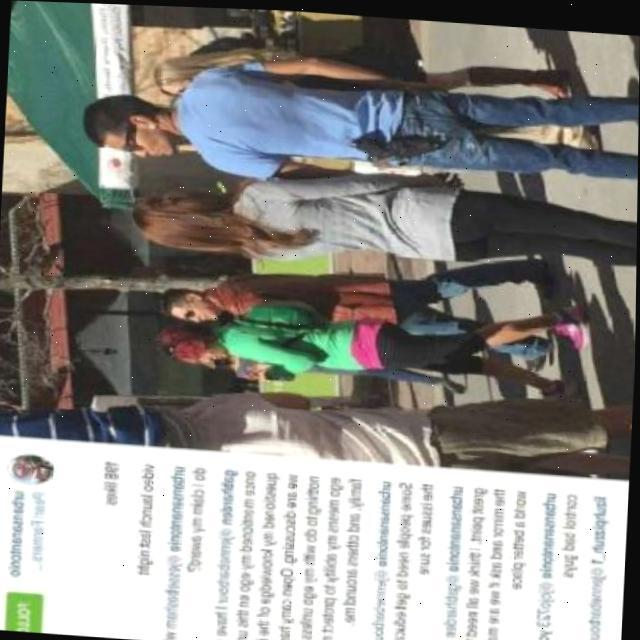gun: (342, 116, 473, 170)
